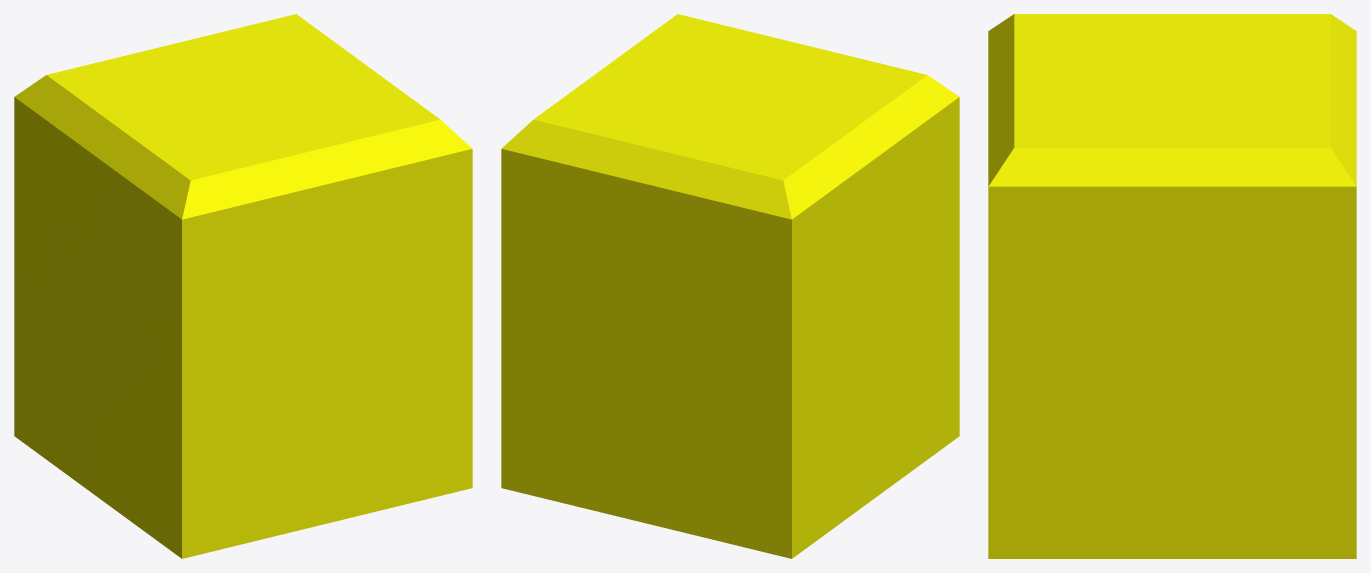
Rendered from parking_obstacle00.glb.
3 renders of one model, left to right at view 1: azimuth 30°, elevation 25°; view 2: azimuth 150°, elevation 25°; view 3: azimuth 270°, elevation 25°, orthographic. The views are drawn at different scales.
Visible parts, largest first — view 1: parking_obstacle00; view 2: parking_obstacle00; view 3: parking_obstacle00.
Part boxes in pixels (x1,y1,x2,y2): parking_obstacle00: (14,14,472,558); parking_obstacle00: (501,14,959,558); parking_obstacle00: (988,14,1356,558).
Bounding box in the file's own units: 0.9 × 1.08 × 0.9.
Materials: 1 (1 with a texture image).
